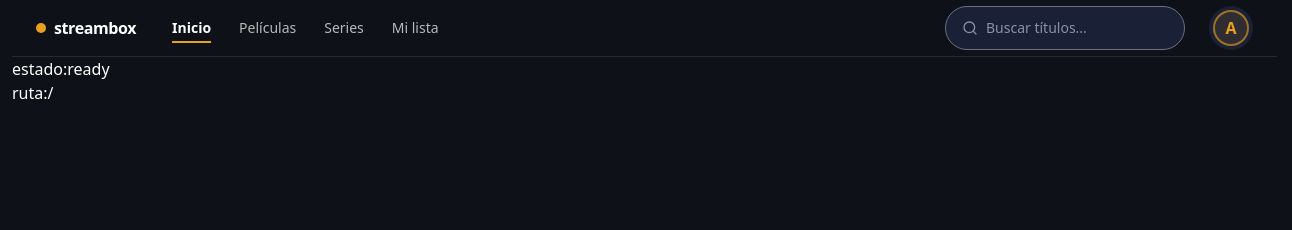
Navbar: menú de usuario › a un usuario normal le muestra su nombre y NO la etiqueta «Administrador»
Click the button named "Menú de usuario" at [1231, 28], box top-left (1209, 6), bottom-right (1253, 50)
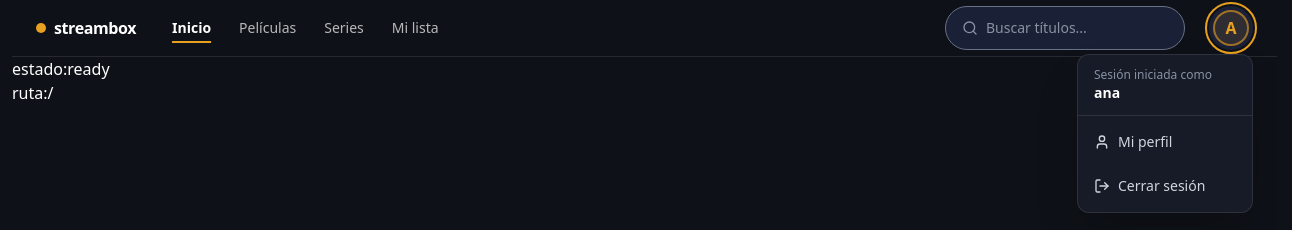
Now the text "ana" is shown, box top-left (1094, 83), bottom-right (1120, 102)
Now the text "Sesión iniciada como" is shown, box top-left (1094, 66), bottom-right (1212, 83)
Now the button "Cerrar sesión" is shown, box top-left (1078, 164), bottom-right (1252, 208)
